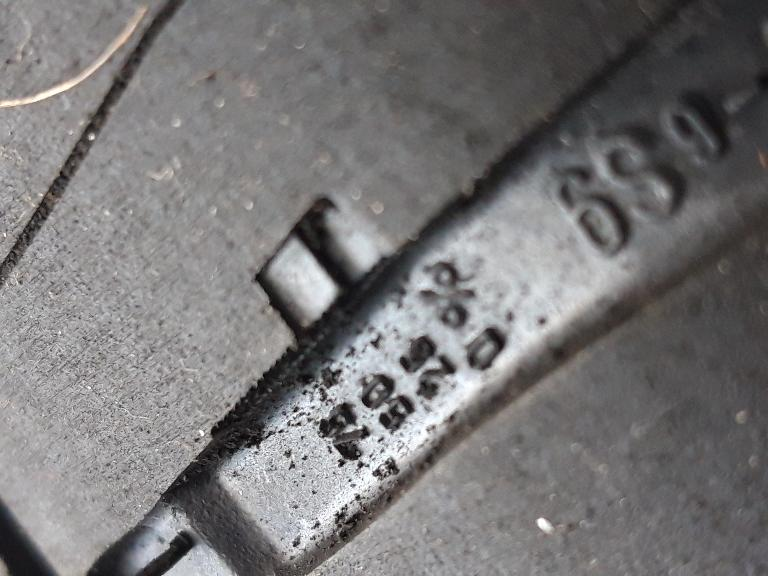temoin:25: (244, 178, 413, 370)
